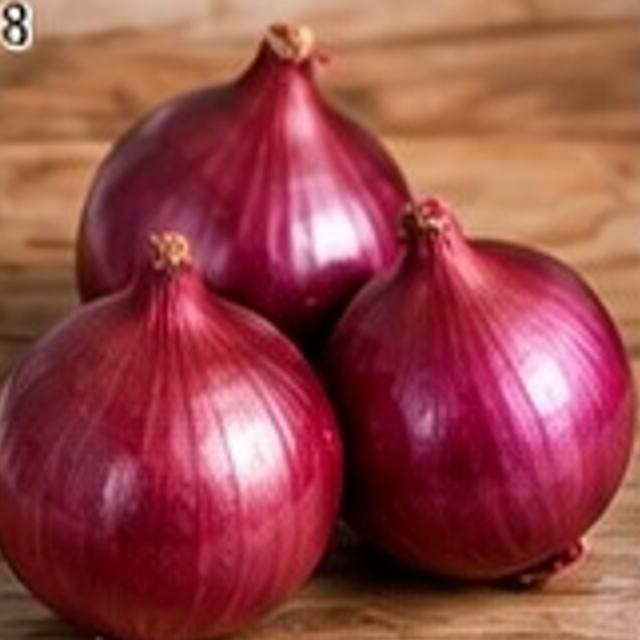healthy: (0, 231, 341, 639), (326, 200, 633, 579), (77, 27, 408, 345)
